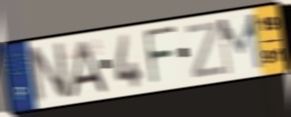4: (114, 31, 145, 91)
A: (67, 38, 109, 100)
F: (142, 24, 178, 88)
M: (216, 11, 265, 78)
N: (25, 39, 72, 107)
Z: (184, 19, 225, 80)
